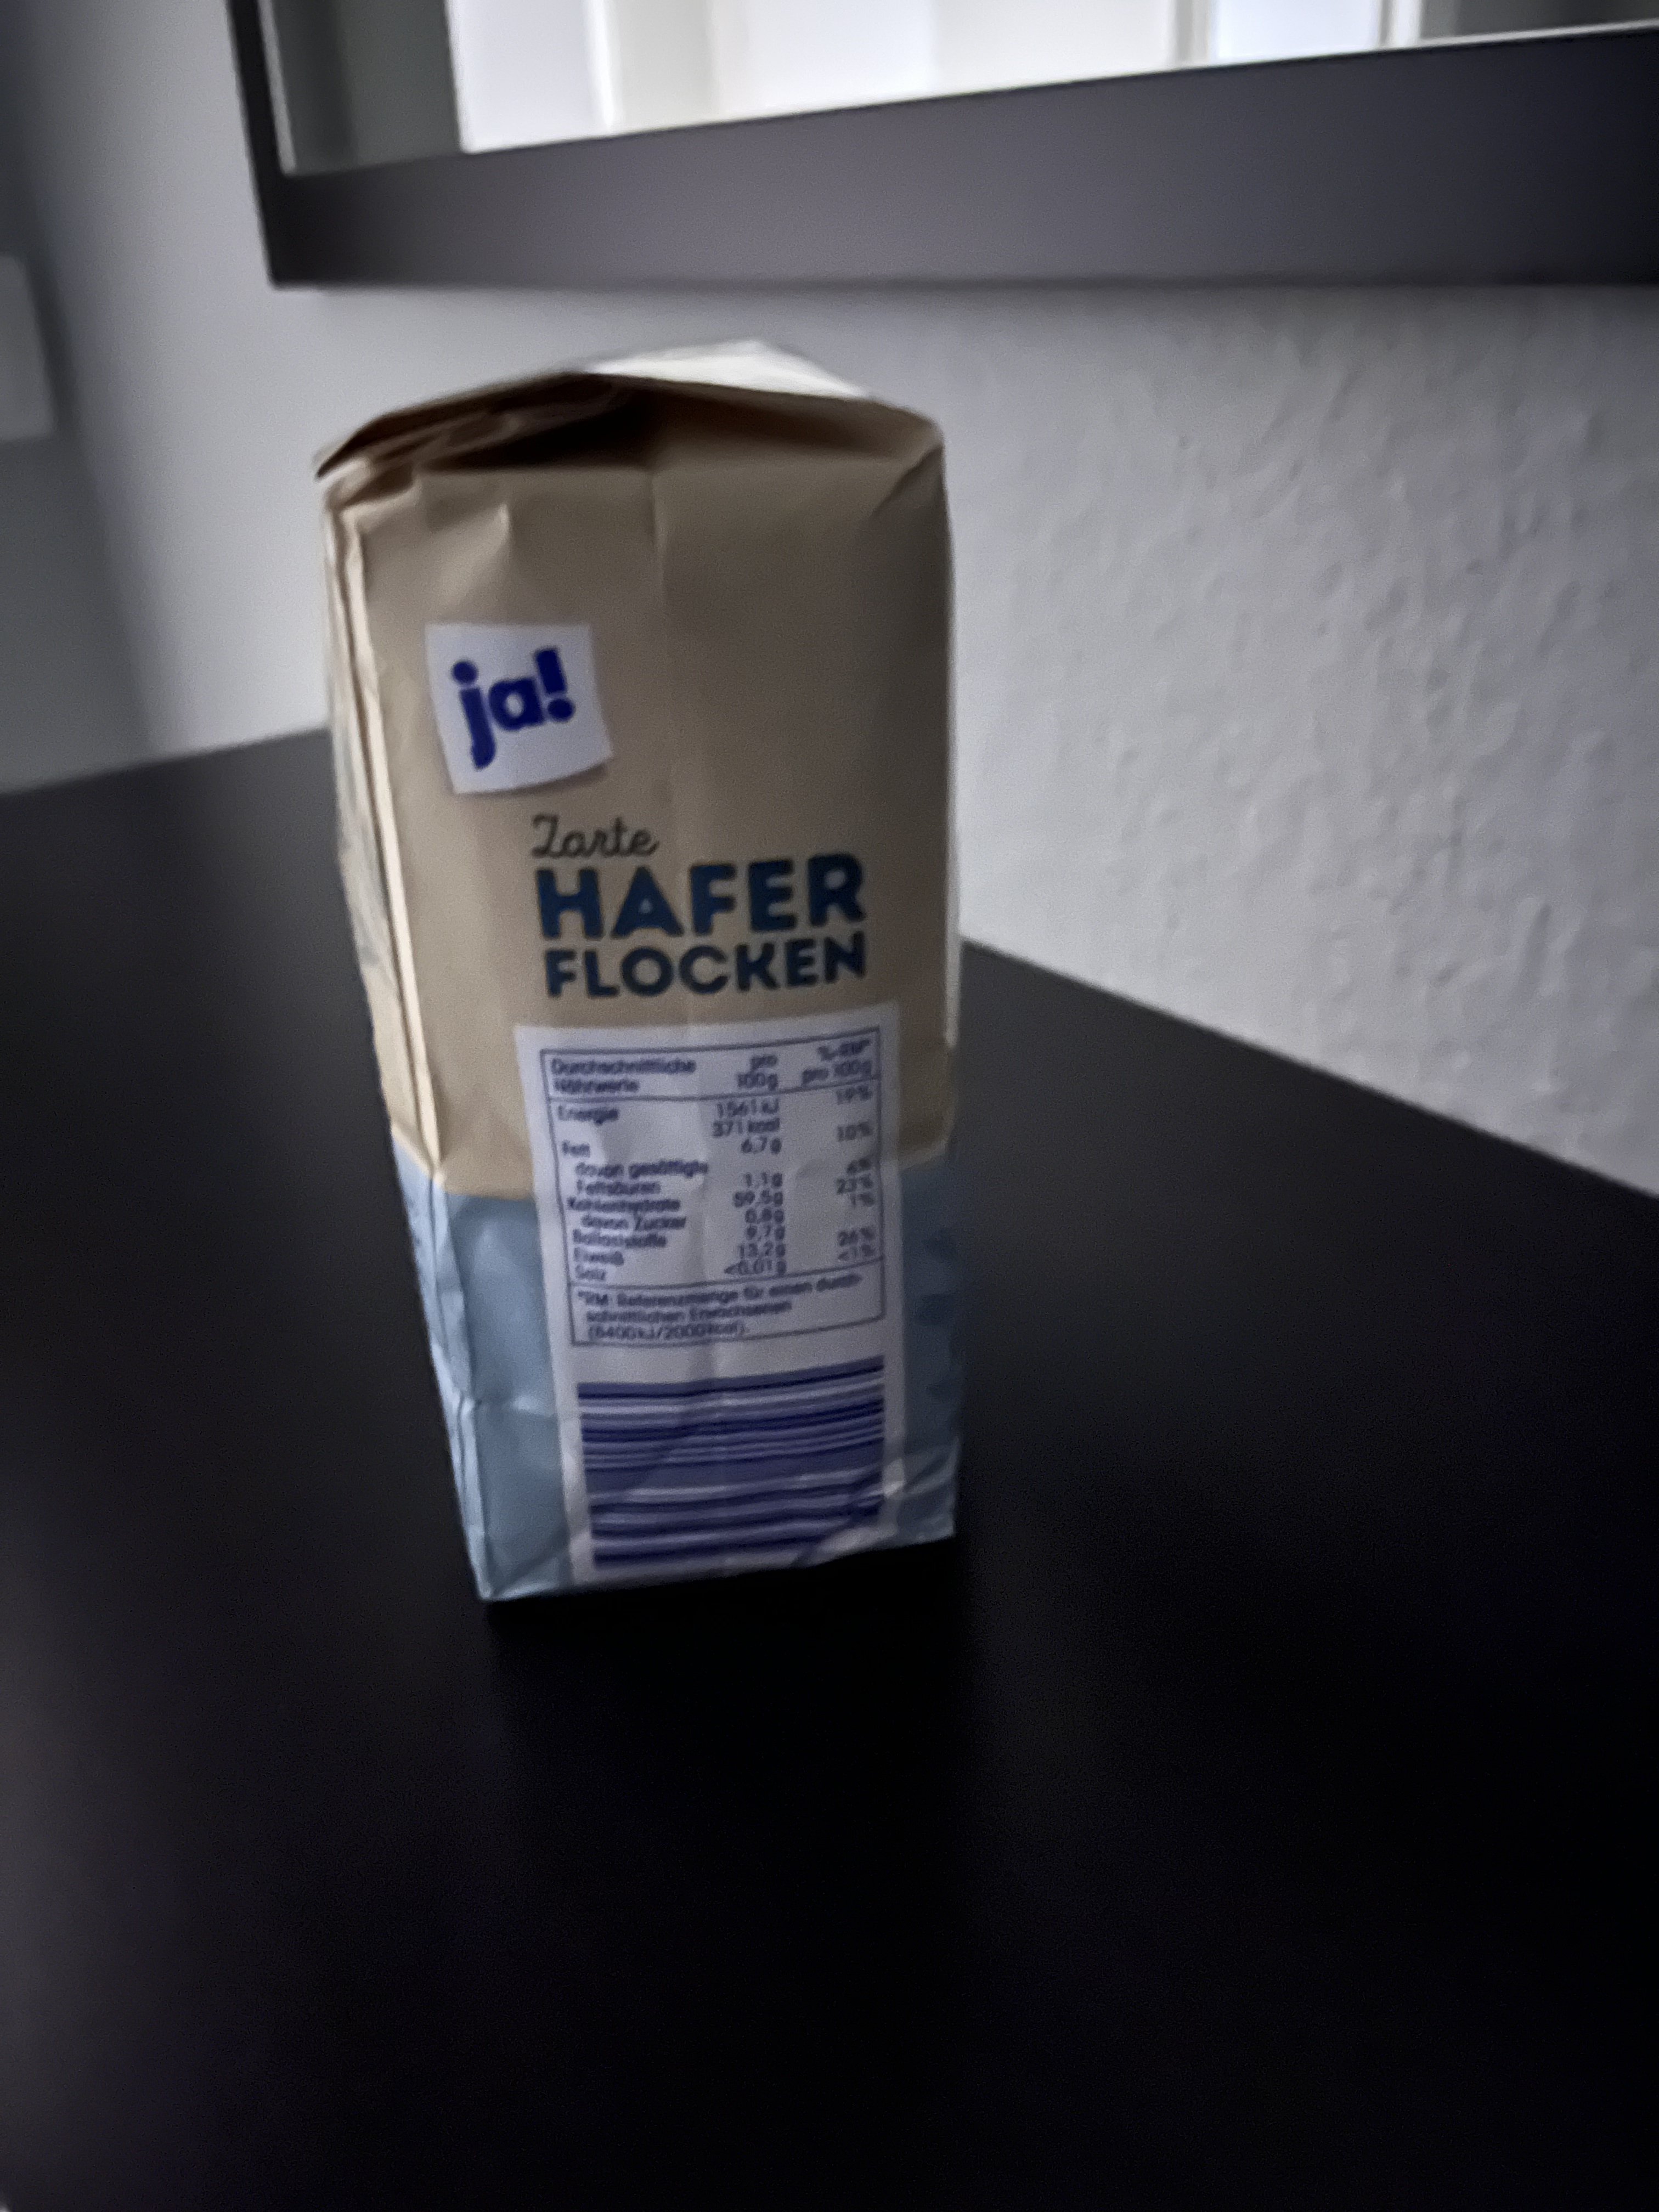haferflocken_ja: (314, 338, 976, 1606)
